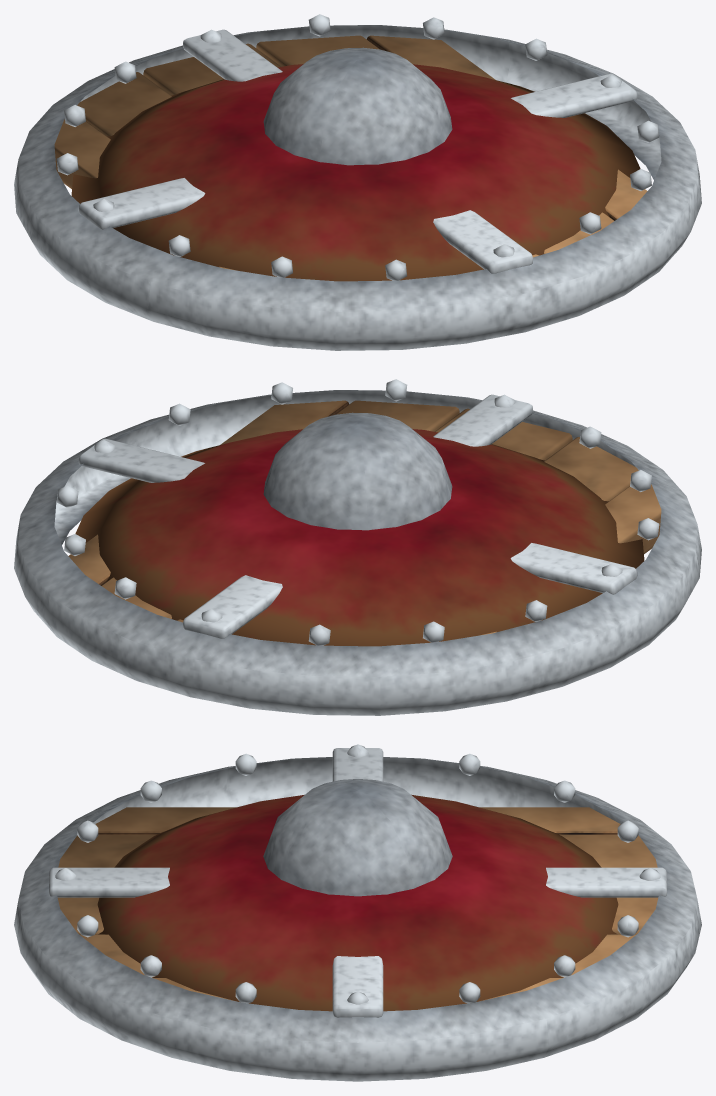
File: FrontlineShield.fbx
3 renders of one model, top to bottom at view 1: azimuth 30°, elevation 25°; view 2: azimuth 150°, elevation 25°; view 3: azimuth 270°, elevation 25°, orthographic.
Visible parts, largest first — view 1: FrontlineShield; view 2: FrontlineShield; view 3: FrontlineShield.
Boxes of the visible parts, box(x1,y1,x2,y2) form: FrontlineShield: box(14, 14, 701, 350); FrontlineShield: box(14, 379, 701, 715); FrontlineShield: box(14, 744, 701, 1081).
Size of the model in its own units: 0.612 by 0.2004 by 0.612.
